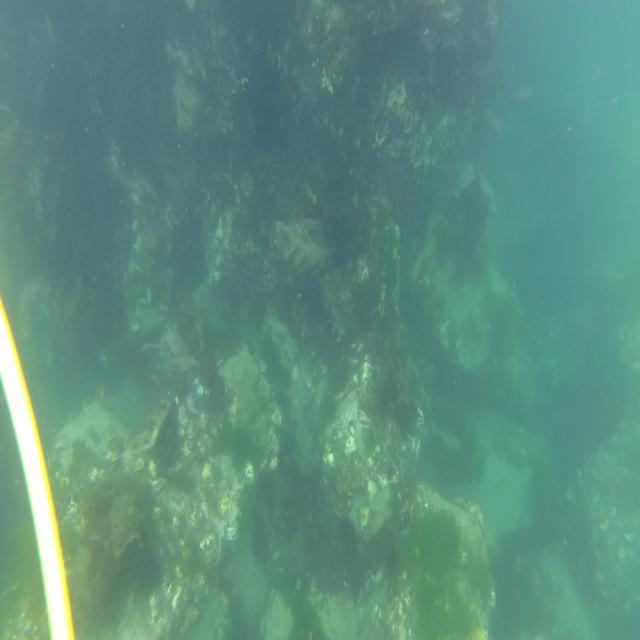starfish: (183, 388, 201, 420)
